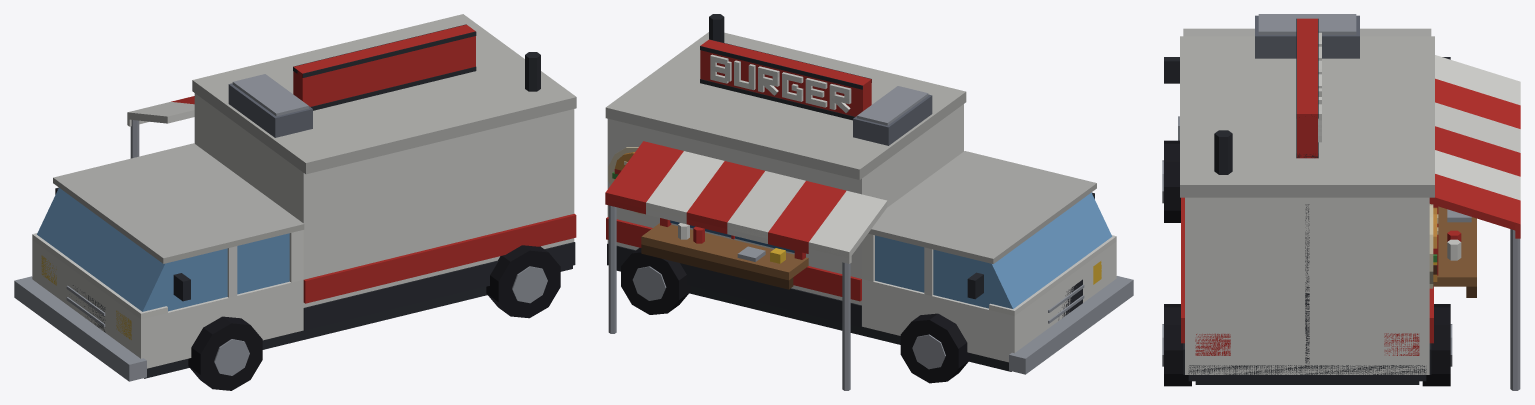
File: Decor_FoodTruck_TruckBurger.fbx
3 views of the same model, side by side, from view 1: azimuth 30°, elevation 25°; view 2: azimuth 150°, elevation 25°; view 3: azimuth 270°, elevation 25° (orthographic). The views are drawn at different scales.
Parts seen in each view (by area): view 1: TruckBurger_Body; view 2: TruckBurger_Body; view 3: TruckBurger_Body.
Boxes of the visible parts, x1=… form: TruckBurger_Body: x1=14, y1=14, x2=576, y2=390; TruckBurger_Body: x1=605, y1=14, x2=1133, y2=390; TruckBurger_Body: x1=1162, y1=14, x2=1520, y2=390.
Bounding box in the file's own units: 16.65 × 8.6 × 10.25.
